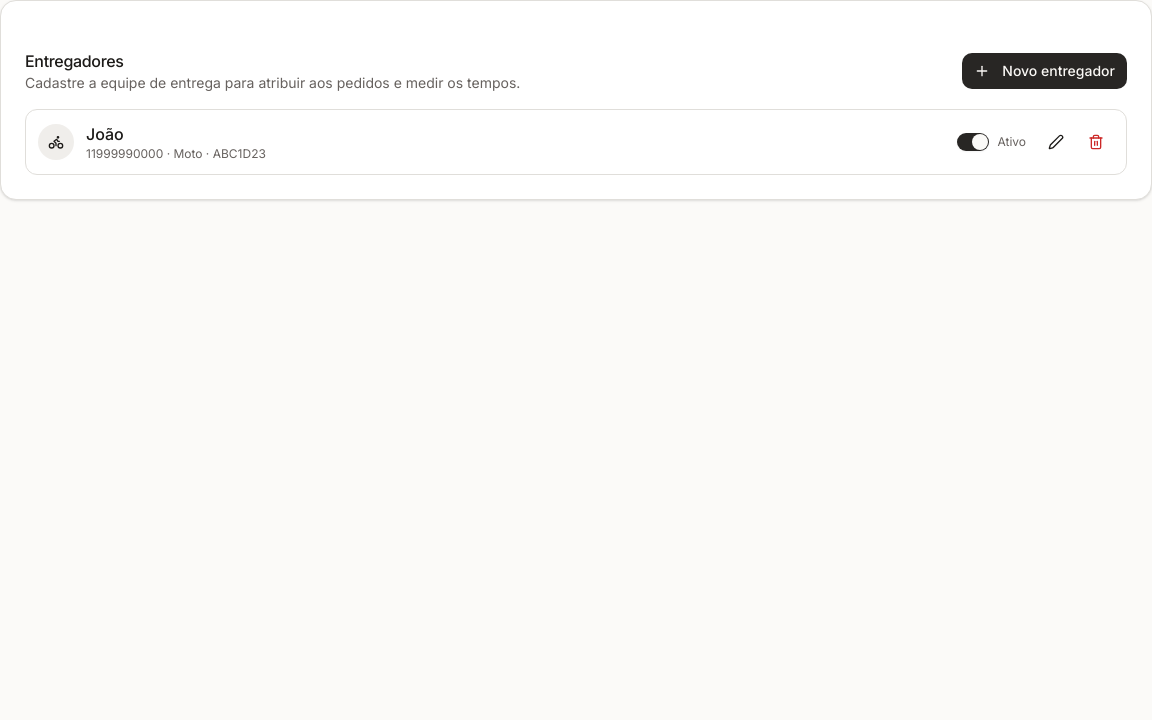
Scenario: DriversTab › valida o nome antes de salvar um novo entregador
This screenshot has width=1152, height=720.
Later steps or results of the test are not shown.
Expected: the text "João" is shown, [86,124,124,144]
Click the button "Novo entregador".
click(1045, 71)  # box [962,53,1127,89]
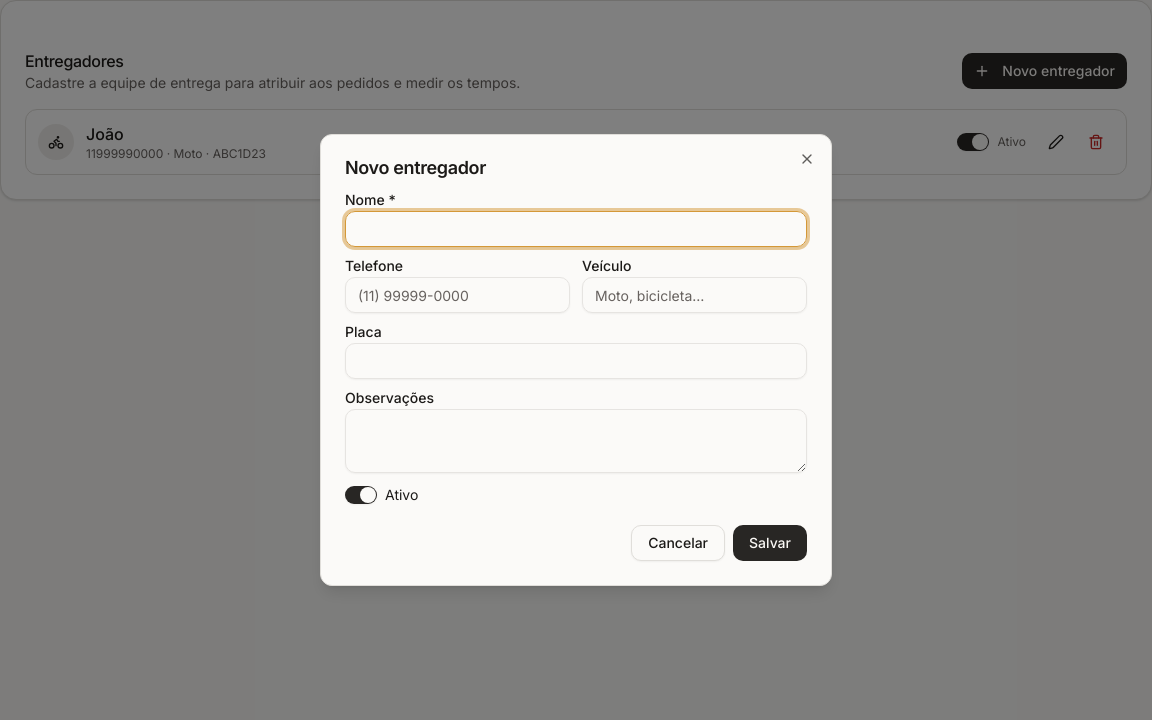
Expected: the dialog shows "Novo entregador", [345,157,486,178]
